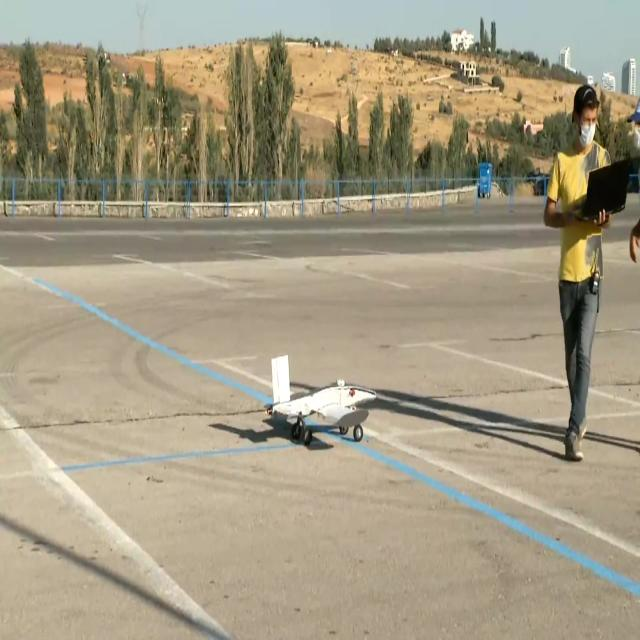iha: (295, 386, 345, 415)
